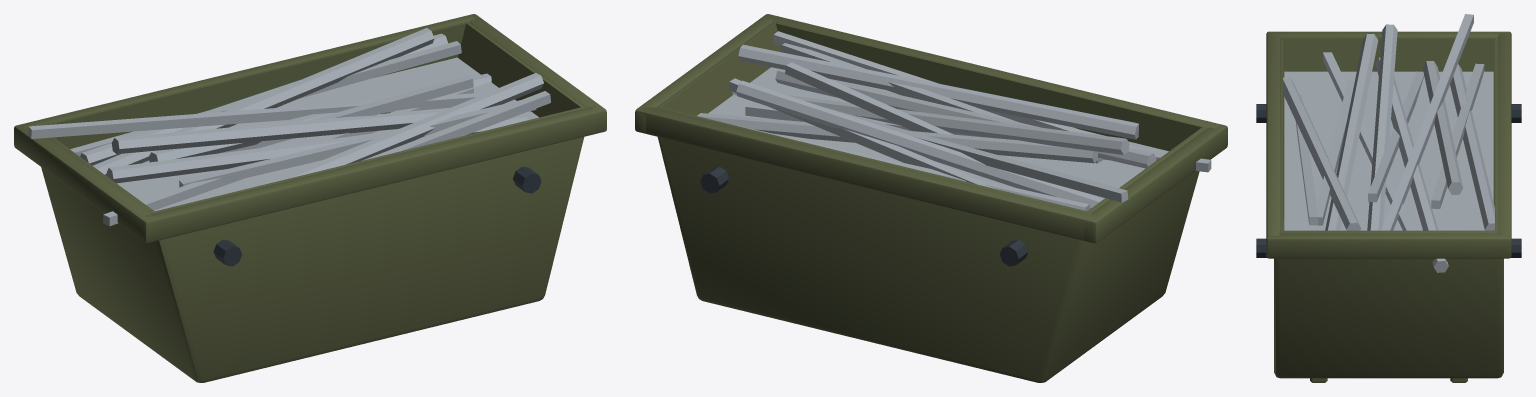
The model's file is ENV_WASTE_SKIP_A_METAL_v001.glb.
The picture shows the model from 3 angles, left to right: view 1: azimuth 30°, elevation 25°; view 2: azimuth 150°, elevation 25°; view 3: azimuth 270°, elevation 25°; orthographic projection. The views are drawn at different scales.
Visible parts, largest first — view 1: ENV_WASTE_SKIP_A_BODY, ENV_WASTE_SKIP_A_CONTENT, ENV_WASTE_SKIP_A_FITTINGS; view 2: ENV_WASTE_SKIP_A_BODY, ENV_WASTE_SKIP_A_CONTENT, ENV_WASTE_SKIP_A_FITTINGS; view 3: ENV_WASTE_SKIP_A_BODY, ENV_WASTE_SKIP_A_CONTENT, ENV_WASTE_SKIP_A_FITTINGS.
Part boxes in pixels (x1=…): ENV_WASTE_SKIP_A_BODY: x1=14, y1=14, x2=606, y2=382; ENV_WASTE_SKIP_A_CONTENT: x1=28, y1=28, x2=550, y2=226; ENV_WASTE_SKIP_A_FITTINGS: x1=213, y1=166, x2=541, y2=266; ENV_WASTE_SKIP_A_BODY: x1=635, y1=14, x2=1227, y2=382; ENV_WASTE_SKIP_A_CONTENT: x1=697, y1=31, x2=1211, y2=211; ENV_WASTE_SKIP_A_FITTINGS: x1=700, y1=166, x2=1028, y2=266; ENV_WASTE_SKIP_A_BODY: x1=1266, y1=31, x2=1511, y2=382; ENV_WASTE_SKIP_A_CONTENT: x1=1283, y1=14, x2=1494, y2=272; ENV_WASTE_SKIP_A_FITTINGS: x1=1256, y1=104, x2=1521, y2=257.
Size of the model in its own units: 3.95 by 1.75 by 2.08.
